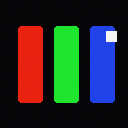1 square: (106, 31, 116, 41)
